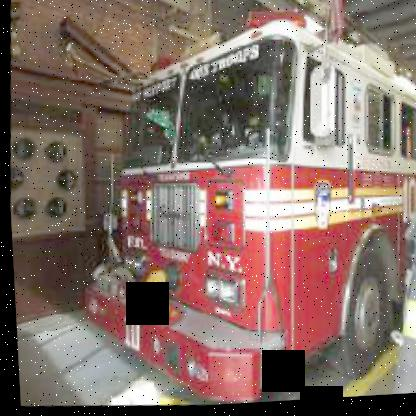emergency: (30, 0, 415, 413)
